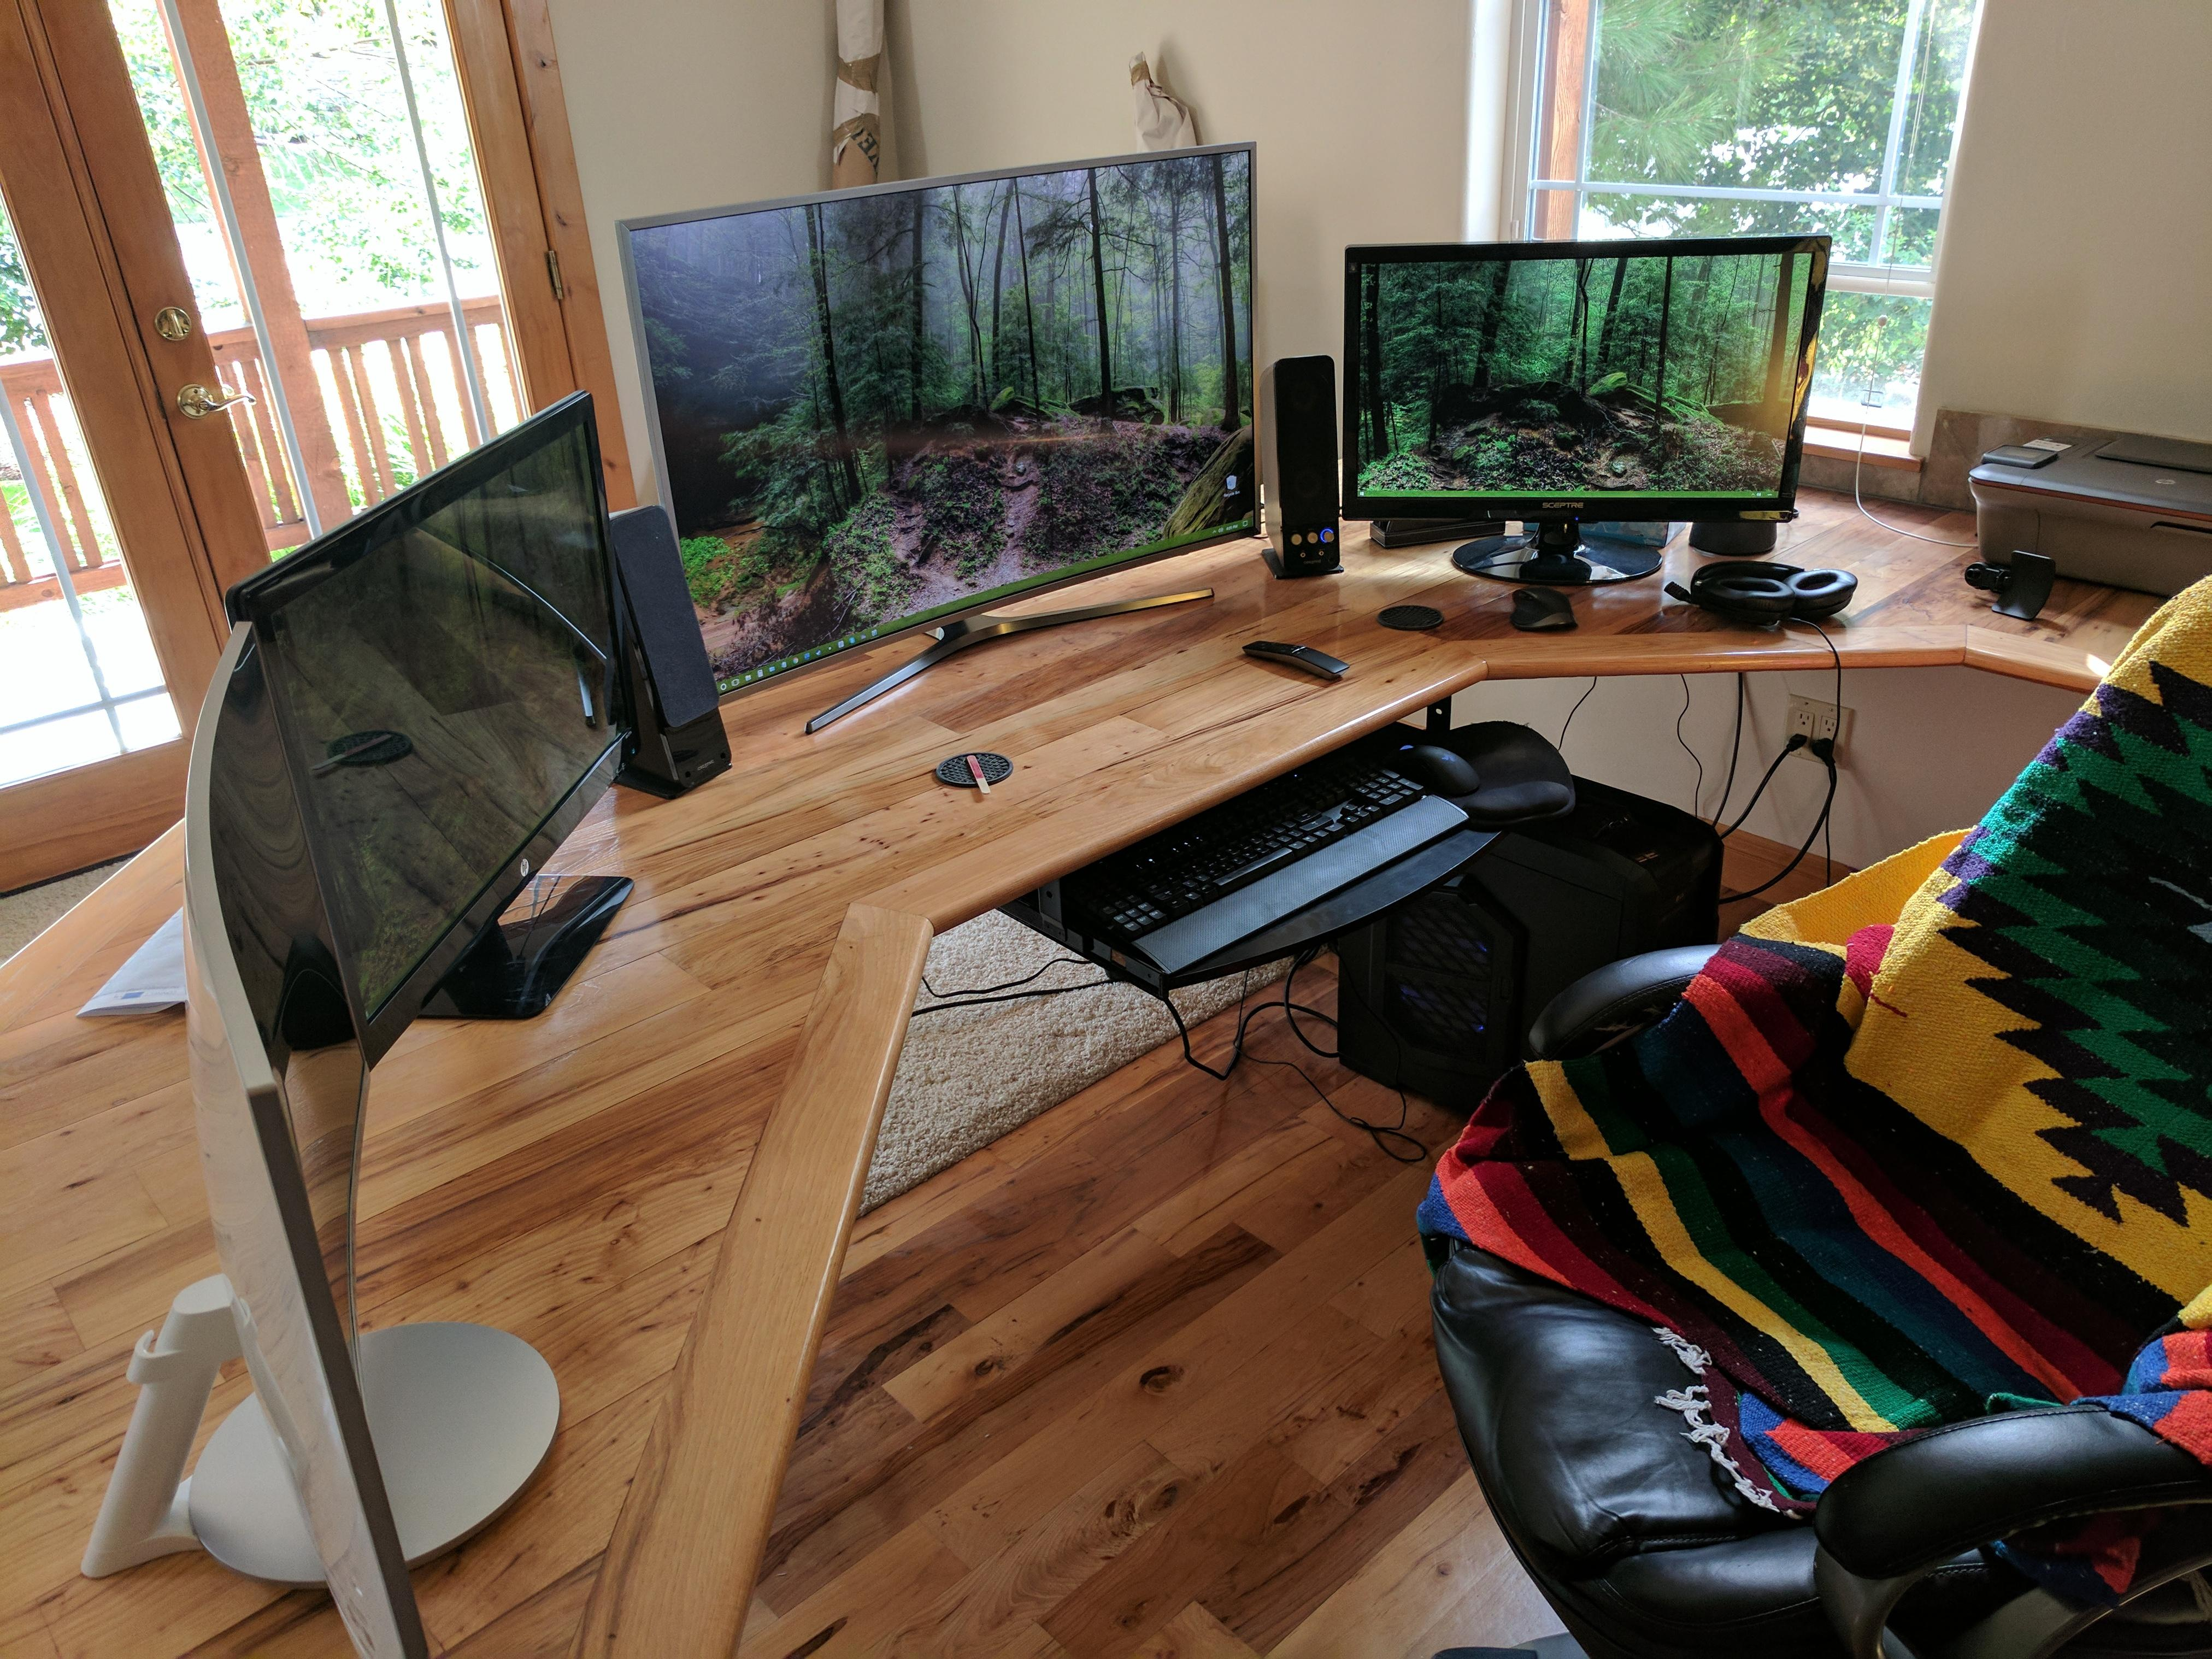Chair (Generic): (1420, 577, 2212, 1659)
Desk (Generic): (7, 465, 2212, 1659)
Desktop (Windows): (1334, 763, 1717, 1136)
Drink Coaster: (927, 742, 1017, 795), (1372, 598, 1447, 640)
External Speakers (Subwoofers): (592, 479, 747, 805), (1244, 350, 1355, 592)
Headphones (with Microphone): (1653, 549, 1865, 631)
Keyboard (Generic): (1062, 748, 1475, 981)
Monitor (Landscape): (80, 613, 583, 1659), (618, 120, 1292, 730), (218, 387, 665, 1030), (1339, 227, 1836, 591)
Mouse (Ergonomic): (1501, 577, 1580, 634)
Mouse (Gaming): (1386, 734, 1482, 800)
Mousepad (Generic): (1402, 706, 1581, 826)
Printer: (1966, 416, 2212, 598)
